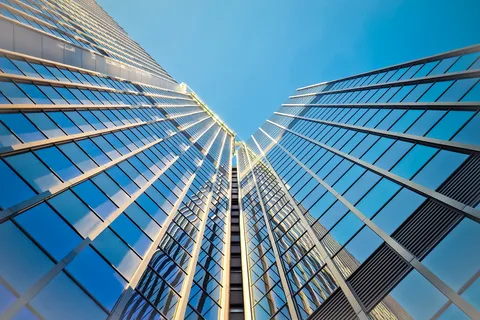high_rise_building: (150, 57, 318, 318)
